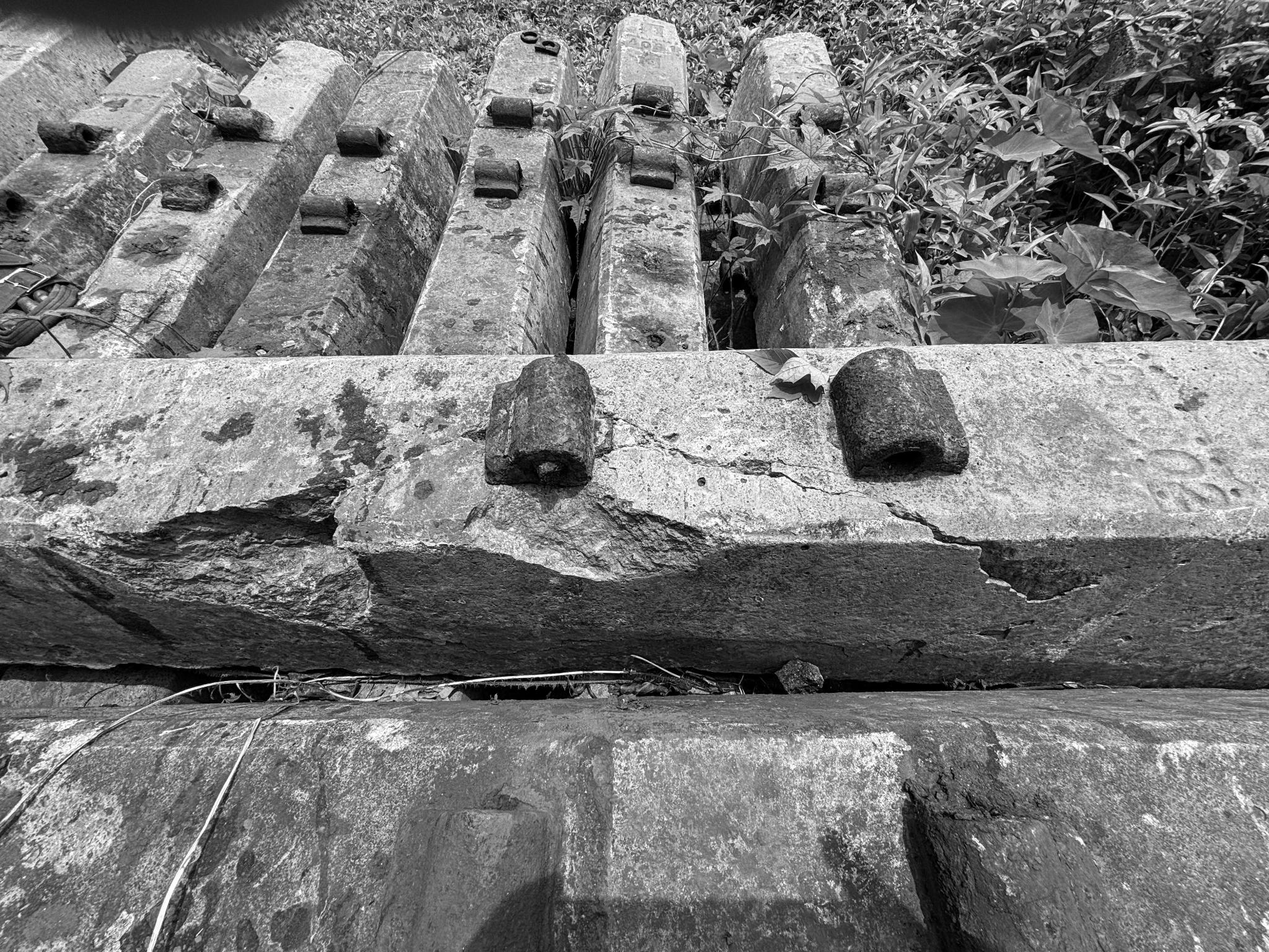cracks under rail seat: (23, 411, 526, 688), (602, 397, 1115, 630), (453, 482, 717, 586)
